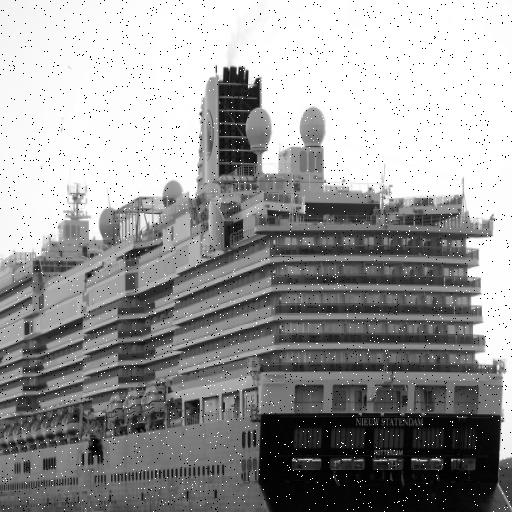cruises: (1, 56, 512, 512)
